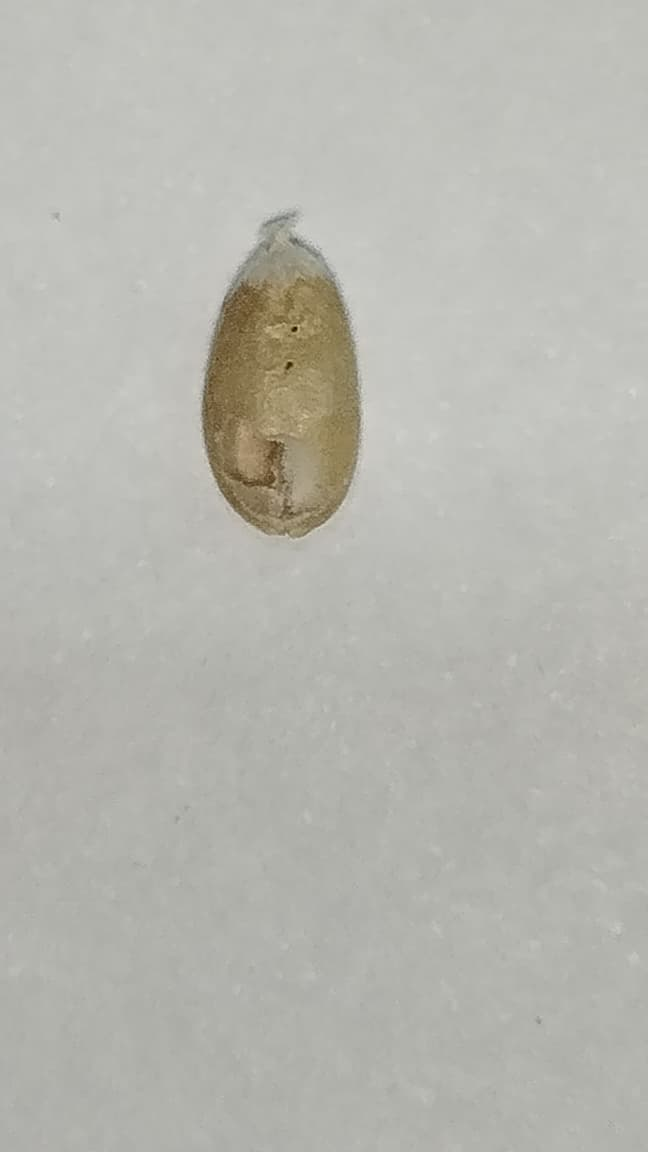damage: (204, 220, 360, 536)
insectdamage: (202, 384, 338, 528)
